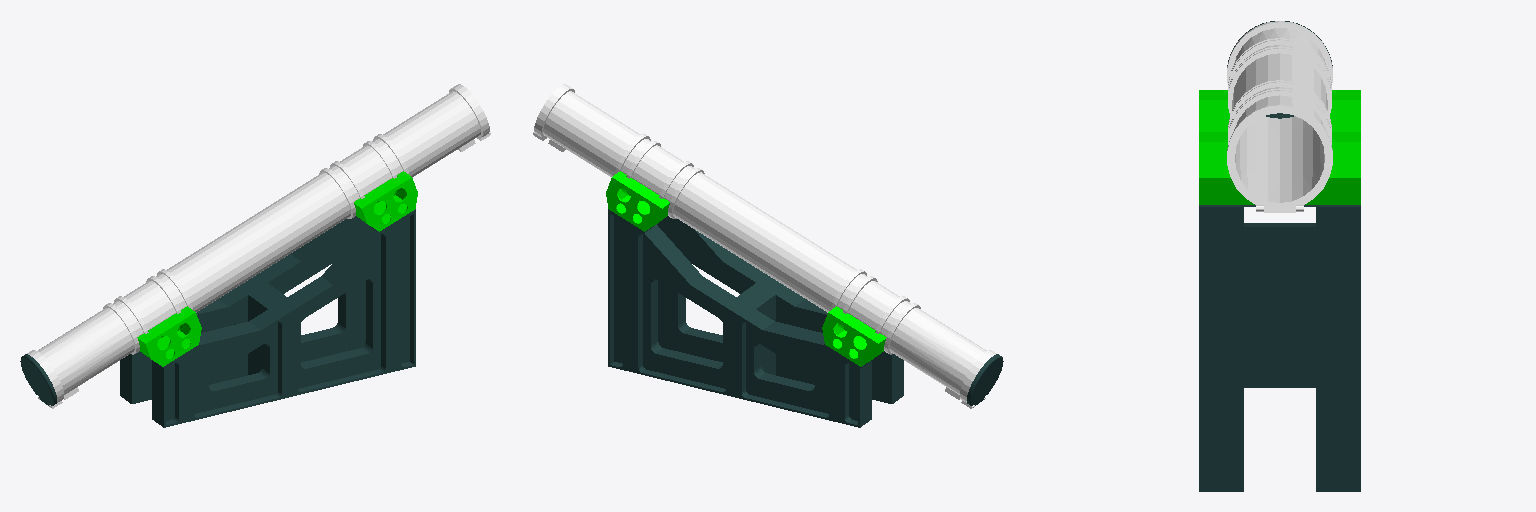
robot.urdf — launcher20deg:
<?xml version="1.0" ?>
<!-- =================================================================================== -->
<!-- |    This document was autogenerated by xacro from src/launcher20deg_description/urdf/launcher20deg.xacro | -->
<!-- |    EDITING THIS FILE BY HAND IS NOT RECOMMENDED                                 | -->
<!-- =================================================================================== -->
<robot name="launcher20deg">
  <material name="grey">
    <color rgba="0.82421875 0.82421875 0.82421875 1.0"/>
  </material>
  <material name="darkgrey">
    <color rgba="0.1843137254901961 0.30980392156862746 0.30980392156862746 1.000"/>
  </material>
  <material name="silver">
    <color rgba="0.700 0.700 0.700 1.000"/>
  </material>
  <material name="white">
    <color rgba="1 1 1 1"/>
  </material>
  <material name="orange">
    <color rgba="1 0.3 0.1 1"/>
  </material>
  <material name="blue">
    <color rgba="0.2 0.2 1 1"/>
  </material>
  <material name="red">
    <color rgba="0.8 0 0 1"/>
  </material>
  <material name="green">
    <color rgba="0.0 1 0.0 1"/>
  </material>
  <material name="black">
    <color rgba="0 0 0 1"/>
  </material>
  <!-- <transmission name="CupOpener_tran">
    <type>transmission_interface/SimpleTransmission</type>
    <joint name="CupOpener">
      <hardwareInterface>hardware_interface/EffortJointInterface</hardwareInterface>
    </joint>
    <actuator name="CupOpener_actr">
      <hardwareInterface>hardware_interface/EffortJointInterface</hardwareInterface>
      <mechanicalReduction>1</mechanicalReduction>
    </actuator>
  </transmission> -->
  <gazebo reference="base_link">
    <mu1>0.2</mu1>
    <mu2>0.2</mu2>
    <selfCollide>true</selfCollide>
    <gravity>true</gravity>
  </gazebo>
  <gazebo reference="launcher_platform">
    <material>Gazebo/DarkGrey</material>
    <mu1>0.2</mu1>
    <mu2>0.2</mu2>
    <selfCollide>true</selfCollide>
    <gravity>true</gravity>
  </gazebo>
  <gazebo reference="Canister_1">
    <material>Gazebo/White</material>
    <mu1>0.0001</mu1>
    <mu2>0.0001</mu2>
    <selfCollide>true</selfCollide>
    <visual>
      <transparency>0.75</transparency>
    </visual>
  </gazebo>
  <!-- <gazebo reference="Cup_3">
    <material>Gazebo/DarkGrey</material>
    <mu1>0.2</mu1>
    <mu2>0.2</mu2>
    <selfCollide>true</selfCollide>
  </gazebo> -->
  <gazebo reference="Cup_1">
    <material>Gazebo/DarkGrey</material>
    <mu1>0.2</mu1>
    <mu2>0.2</mu2>
    <selfCollide>true</selfCollide>
  </gazebo>
  <gazebo reference="CanisterHolder_1">
    <material>Gazebo/Green</material>
    <mu1>0.2</mu1>
    <mu2>0.2</mu2>
    <selfCollide>true</selfCollide>
  </gazebo>
  <gazebo reference="CanisterHolder_2">
    <material>Gazebo/Green</material>
    <mu1>0.2</mu1>
    <mu2>0.2</mu2>
    <selfCollide>true</selfCollide>
  </gazebo>
  <link name="base_link"/>
  <joint name="dummy_joint" type="fixed">
    <origin rpy="0 0 0" xyz="0 0 0"/>
    <parent link="base_link"/>
    <child link="launcher_platform"/>
  </joint>
  <link name="launcher_platform">
    <inertial>
      <origin rpy="0 0 0" xyz="0.21956009217606984 4.3636388735968575e-16 0.6746334924440056"/>
      <mass value="10722.621074762288"/>
      <inertia ixx="3680.005759" ixy="0.0" ixz="-2210.827735" iyy="13504.573497" iyz="0.0" izz="12126.040929"/>
    </inertial>
    <visual>
      <origin rpy="0 0 0" xyz="0 0 0"/>
      <geometry>
        <mesh filename="package://launcher20deg_description/meshes/base_link.stl" scale="0.001 0.001 0.001"/>
      </geometry>
      <material name="darkgrey"/>
    </visual>
    <collision>
      <origin rpy="0 0 0" xyz="0 0 0"/>
      <geometry>
        <mesh filename="package://launcher20deg_description/meshes/base_link.stl" scale="0.001 0.001 0.001"/>
      </geometry>
    </collision>
  </link>
  <link name="Canister_1">
    <inertial>
      <origin rpy="0 0 0" xyz="-1.4062810469706366 -9.218153851847617e-12 -0.5219811433717323"/>
      <mass value="1615.704913742918"/>
      <inertia ixx="782.357928" ixy="0.0" ixz="-1767.994421" iyy="5644.411666" iyz="0.0" izz="4996.385335"/>
    </inertial>
    <visual>
      <origin rpy="0 0 0" xyz="-1.262326 0.0 -2.249618"/>
      <geometry>
        <mesh filename="package://launcher20deg_description/meshes/Canister_1.stl" scale="0.001 0.001 0.001"/>
      </geometry>
      <material name="white"/>
    </visual>
    <collision>
      <origin rpy="0 0 0" xyz="-1.262326 0.0 -2.249618"/>
      <geometry>
        <mesh filename="package://launcher20deg_description/meshes/Canister_1.stl" scale="0.001 0.001 0.001"/>
      </geometry>
    </collision>
  </link>
  <!-- <link name="Cup_3">
    <inertial>
      <origin rpy="0 0 0" xyz="-0.1113901774930488 -2.4584670189393287e-09 0.29080423143479095"/>
      <mass value="132.23344015308516"/>
      <inertia ixx="6.691735" ixy="0.0" ixz="1.127295" iyy="3.561839" iyz="0.0" izz="4.005013"/>
    </inertial>
    <visual>
      <origin rpy="0 0 0" xyz="-2.808699 0.0 -2.481723"/>
      <geometry>
        <mesh filename="package://launcher20deg_description/meshes/Cup_3.stl" scale="0.001 0.001 0.001"/>
      </geometry>
      <material name="darkgrey"/>
    </visual>
    <collision>
      <origin rpy="0 0 0" xyz="-2.808699 0.0 -2.481723"/>
      <geometry>
        <mesh filename="package://launcher20deg_description/meshes/Cup_3.stl" scale="0.001 0.001 0.001"/>
      </geometry>
    </collision>
  </link> -->
  <link name="Cup_1">
    <inertial>
      <origin rpy="0 0 0" xyz="0.18757809812498794 2.4584844637257807e-09 -0.6864021806271359"/>
      <mass value="132.23344015308516"/>
      <inertia ixx="6.691815" ixy="0.0" ixz="1.1272" iyy="3.561839" iyz="-0.0" izz="4.004933"/>
    </inertial>
    <visual>
      <origin rpy="0 0 0" xyz="3.177629 0.0 -1.389734"/>
      <geometry>
        <mesh filename="package://launcher20deg_description/meshes/Cup_1.stl" scale="0.001 0.001 0.001"/>
      </geometry>
      <material name="darkgrey"/>
    </visual>
    <collision>
      <origin rpy="0 0 0" xyz="3.177629 0.0 -1.389734"/>
      <geometry>
        <mesh filename="package://launcher20deg_description/meshes/Cup_1.stl" scale="0.001 0.001 0.001"/>
      </geometry>
    </collision>
  </link>
  <link name="CanisterHolder_1">
    <inertial>
      <origin rpy="0 0 0" xyz="-0.05951337321479344 1.4715522383126382e-16 0.16351174115532052"/>
      <mass value="335.0395971576902"/>
      <inertia ixx="43.686085" ixy="0.0" ixz="-3.25077" iyy="22.365267" iyz="0.0" izz="51.43432"/>
    </inertial>
    <visual>
      <origin rpy="0 0 0" xyz="1.419944 0.0 -0.847681"/>
      <geometry>
        <mesh filename="package://launcher20deg_description/meshes/CanisterHolder_1.stl" scale="0.001 0.001 0.001"/>
      </geometry>
      <material name="green"/>
    </visual>
    <collision>
      <origin rpy="0 0 0" xyz="1.419944 0.0 -0.847681"/>
      <geometry>
        <mesh filename="package://launcher20deg_description/meshes/CanisterHolder_1.stl" scale="0.001 0.001 0.001"/>
      </geometry>
    </collision>
  </link>
  <link name="CanisterHolder_2">
    <inertial>
      <origin rpy="0 0 0" xyz="-0.05951351085707057 1.4715522383126382e-16 0.16351217113232974"/>
      <mass value="335.0395971576902"/>
      <inertia ixx="43.686085" ixy="0.0" ixz="-3.25077" iyy="22.365267" iyz="0.0" izz="51.43432"/>
    </inertial>
    <visual>
      <origin rpy="0 0 0" xyz="-1.399134 0.0 -1.873741"/>
      <geometry>
        <mesh filename="package://launcher20deg_description/meshes/CanisterHolder_2.stl" scale="0.001 0.001 0.001"/>
      </geometry>
      <material name="green"/>
    </visual>
    <collision>
      <origin rpy="0 0 0" xyz="-1.399134 0.0 -1.873741"/>
      <geometry>
        <mesh filename="package://launcher20deg_description/meshes/CanisterHolder_2.stl" scale="0.001 0.001 0.001"/>
      </geometry>
    </collision>
  </link>
  <joint name="CanisterToHolder2" type="fixed">
    <origin rpy="0 0 0" xyz="-0.136808 0.0 0.375877"/>
    <parent link="CanisterHolder_2"/>
    <child link="Canister_1"/>
  </joint>
  <!-- <joint name="CupOpener" type="revolute">
    <origin rpy="0 0 0" xyz="1.546373 0.0 0.232105"/>
    <parent link="Canister_1"/>
    <child link="Cup_3"/>
    <axis xyz="0.0 1.0 0.0"/>
    <limit effort="100" lower="0.0" upper="4.712389" velocity="100"/>
  </joint> -->
  <joint name="CupCloser" type="fixed">
    <origin rpy="0 0 0" xyz="-4.439955 0.0 -0.859884"/>
    <parent link="Canister_1"/>
    <child link="Cup_1"/>
  </joint>
  <joint name="BaseToHolder1" type="fixed">
    <origin rpy="0 0 0" xyz="-1.419944 0.0 0.847681"/>
    <parent link="base_link"/>
    <child link="CanisterHolder_1"/>
  </joint>
  <joint name="BaseToHolder2" type="fixed">
    <origin rpy="0 0 0" xyz="1.399134 0.0 1.873741"/>
    <parent link="base_link"/>
    <child link="CanisterHolder_2"/>
  </joint>
</robot>

--- Render facts (derived) ---
Views: 3 orthographic renders of the robot side by side, from view 1: azimuth 30°, elevation 25°; view 2: azimuth 150°, elevation 25°; view 3: azimuth 270°, elevation 25°.
Model launcher20deg with 6 links and 5 joints (5 fixed), rooted at base_link, posed all joints at 0.
Visible links, largest first — view 1: launcher_platform, Canister_1, CanisterHolder_2, CanisterHolder_1, Cup_1; view 2: launcher_platform, Canister_1, CanisterHolder_2, CanisterHolder_1, Cup_1; view 3: launcher_platform, Canister_1, CanisterHolder_2, CanisterHolder_1.
Boxes of the visible links, x1,y1,x2,y2 form: launcher_platform: [120, 209, 415, 427]; Canister_1: [27, 84, 490, 408]; CanisterHolder_2: [354, 171, 417, 231]; CanisterHolder_1: [137, 306, 201, 366]; Cup_1: [20, 354, 56, 405]; launcher_platform: [608, 209, 903, 427]; Canister_1: [533, 84, 996, 408]; CanisterHolder_2: [606, 171, 669, 231]; CanisterHolder_1: [822, 306, 886, 366]; Cup_1: [967, 354, 1003, 405]; launcher_platform: [1199, 205, 1360, 491]; Canister_1: [1227, 21, 1332, 212]; CanisterHolder_2: [1199, 132, 1360, 204]; CanisterHolder_1: [1199, 90, 1360, 131].
Bounding box of the posed robot: 5.95 × 1 × 3.07 m (x, y, z).
5 mesh visuals loaded from 5 distinct referenced files (5 binary STL).
